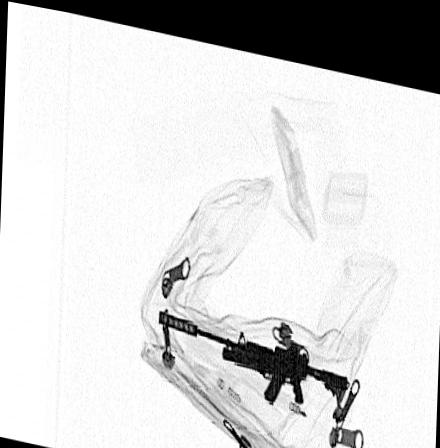Gun: (157, 301, 350, 401)
